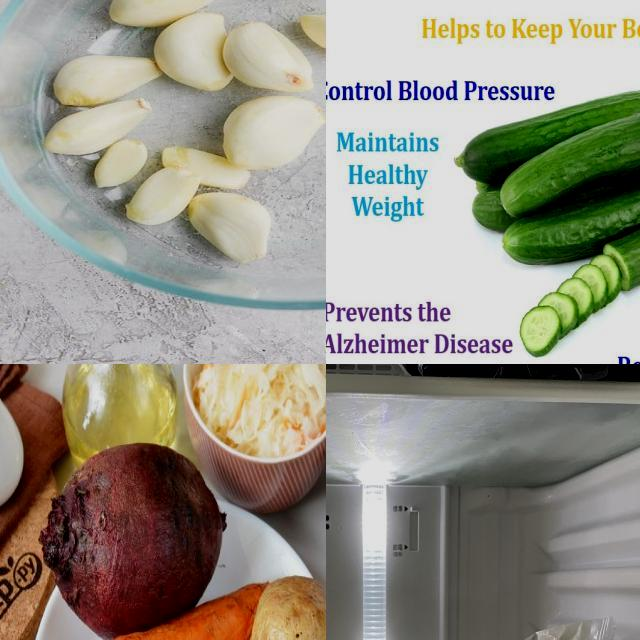beet: (43, 474, 225, 623)
cucumber: (457, 84, 640, 186), (500, 108, 640, 219), (497, 168, 640, 266), (598, 192, 640, 292), (521, 307, 560, 355), (543, 293, 578, 338), (561, 279, 593, 327), (574, 267, 606, 311)
garlic: (40, 1, 327, 267)
potato: (255, 574, 327, 640)
